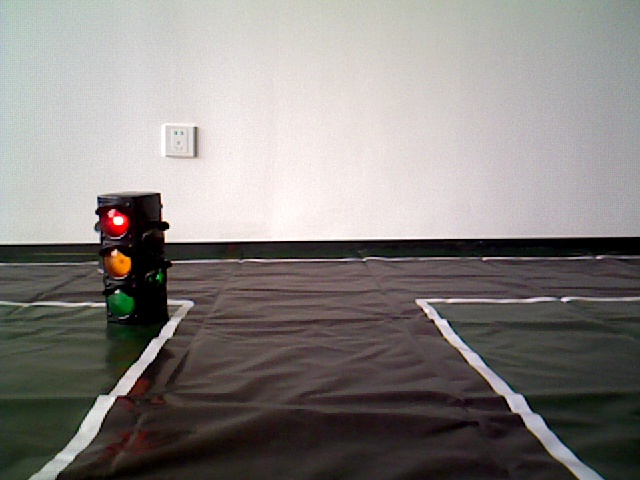red: (99, 196, 168, 328)
